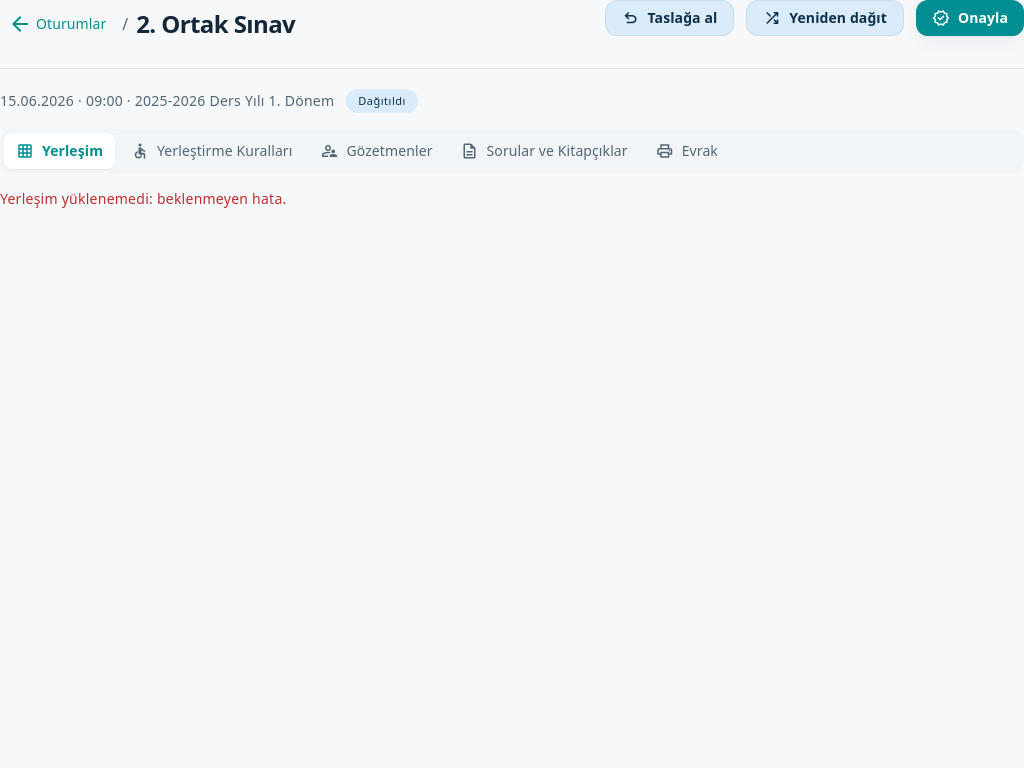
Test: OturumDetayPage › DAĞITILDI: onay reddedilirse gerekçe gösterilir ve diyalog açık kalır
Step 1. Click the button "Onayla" → click(970, 18), box [916, 0, 1023, 36]
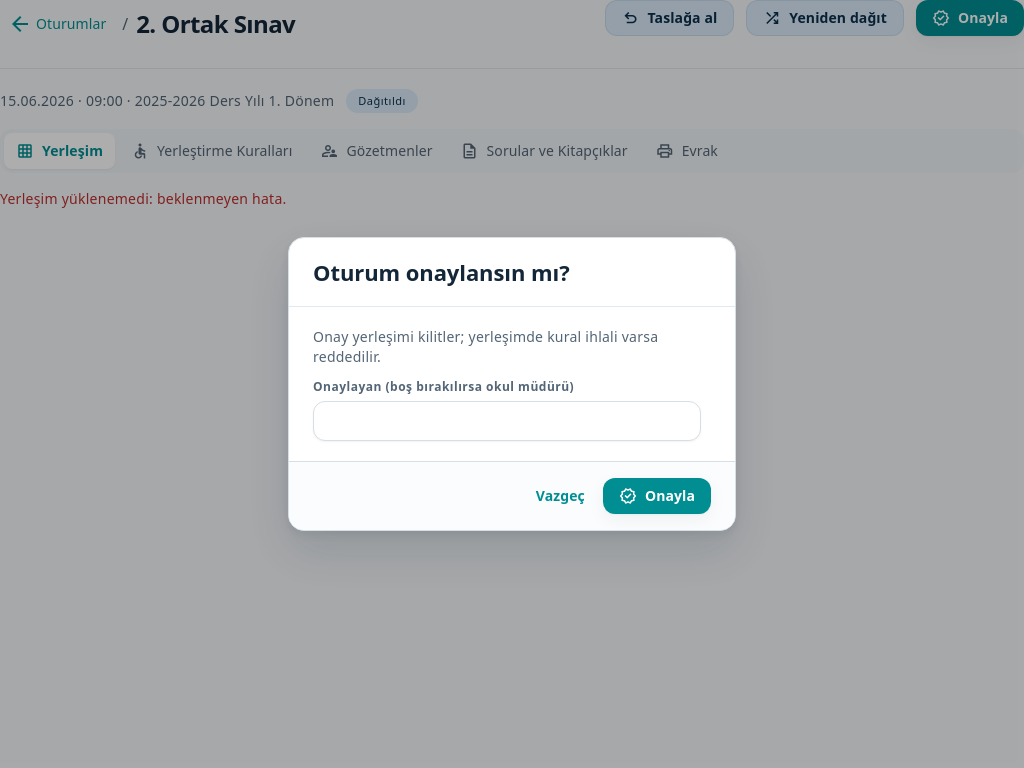
Step 2. Click the button "Onayla" → click(657, 496), box [603, 478, 711, 514]
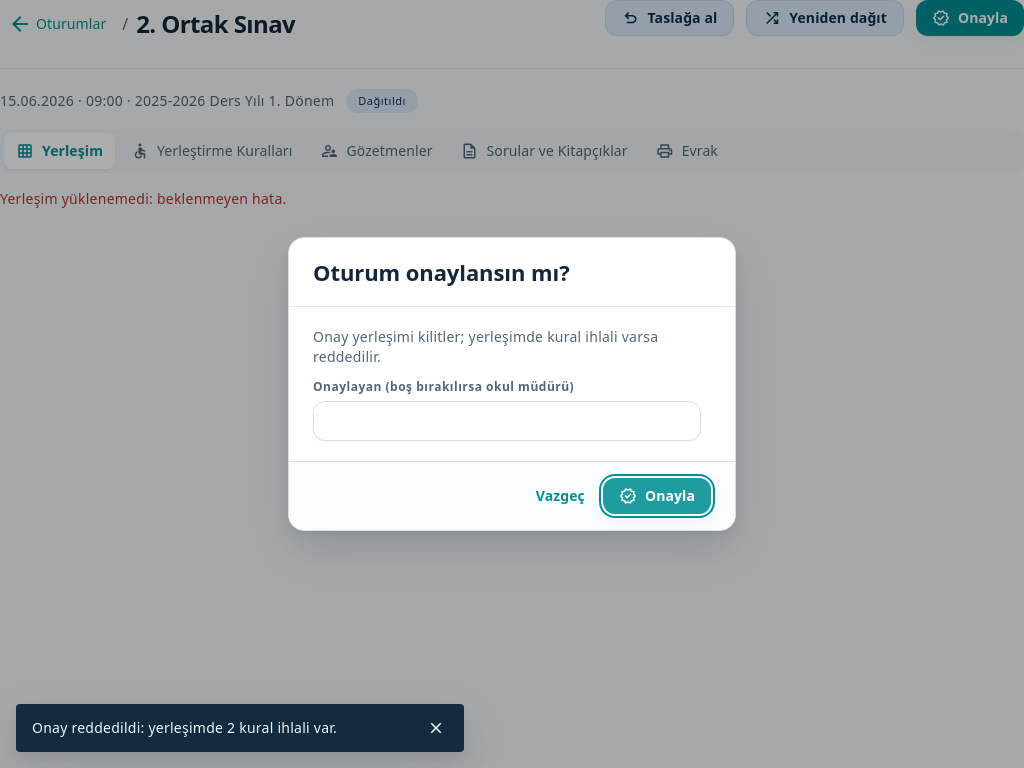
expect the dialog "Oturum onaylansın mı?" is shown: met, box [288, 237, 736, 531]
expect the text "Onay reddedildi: yerleşimde 2 kural ihlali var." is shown: met, box [32, 718, 337, 737]
